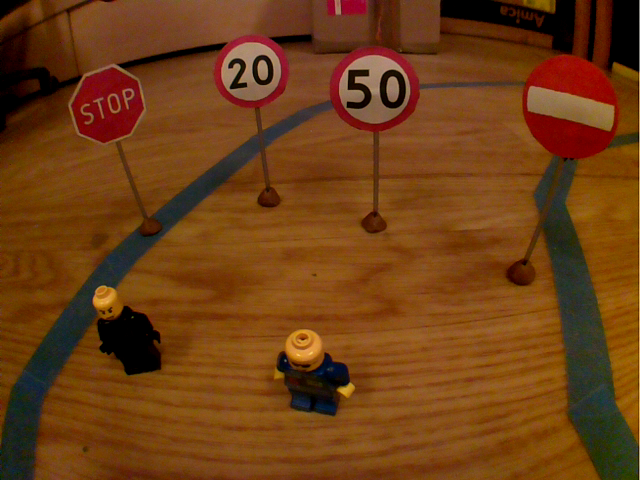Ograniczenie 20: (211, 31, 294, 113)
Ograniczenie 50: (327, 41, 424, 136)
Postac LEGO: (265, 323, 367, 424), (84, 281, 171, 380)
Stop: (64, 58, 152, 151)
Zakaz: (516, 51, 623, 165)
